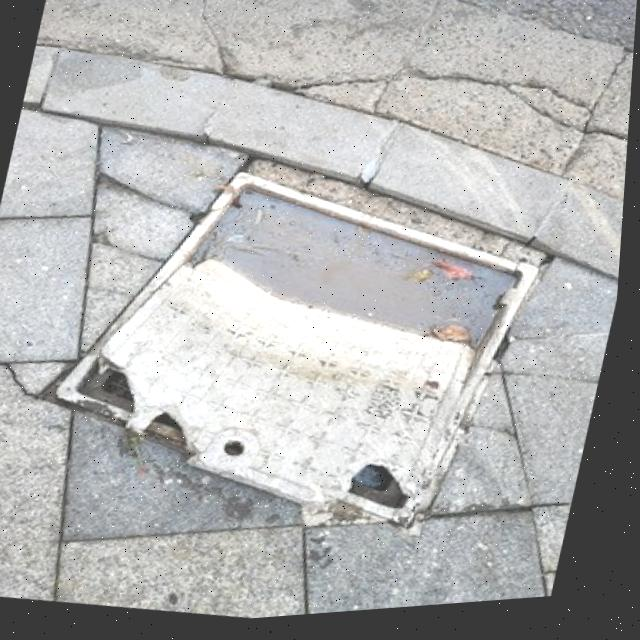manhole: (16, 121, 564, 567)
